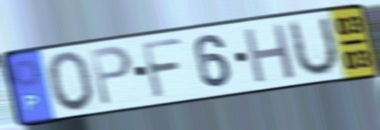6: (193, 33, 234, 91)
F: (139, 36, 185, 101)
H: (241, 21, 299, 87)
O: (45, 49, 97, 115)
P: (87, 43, 135, 109)
U: (287, 13, 341, 80)
